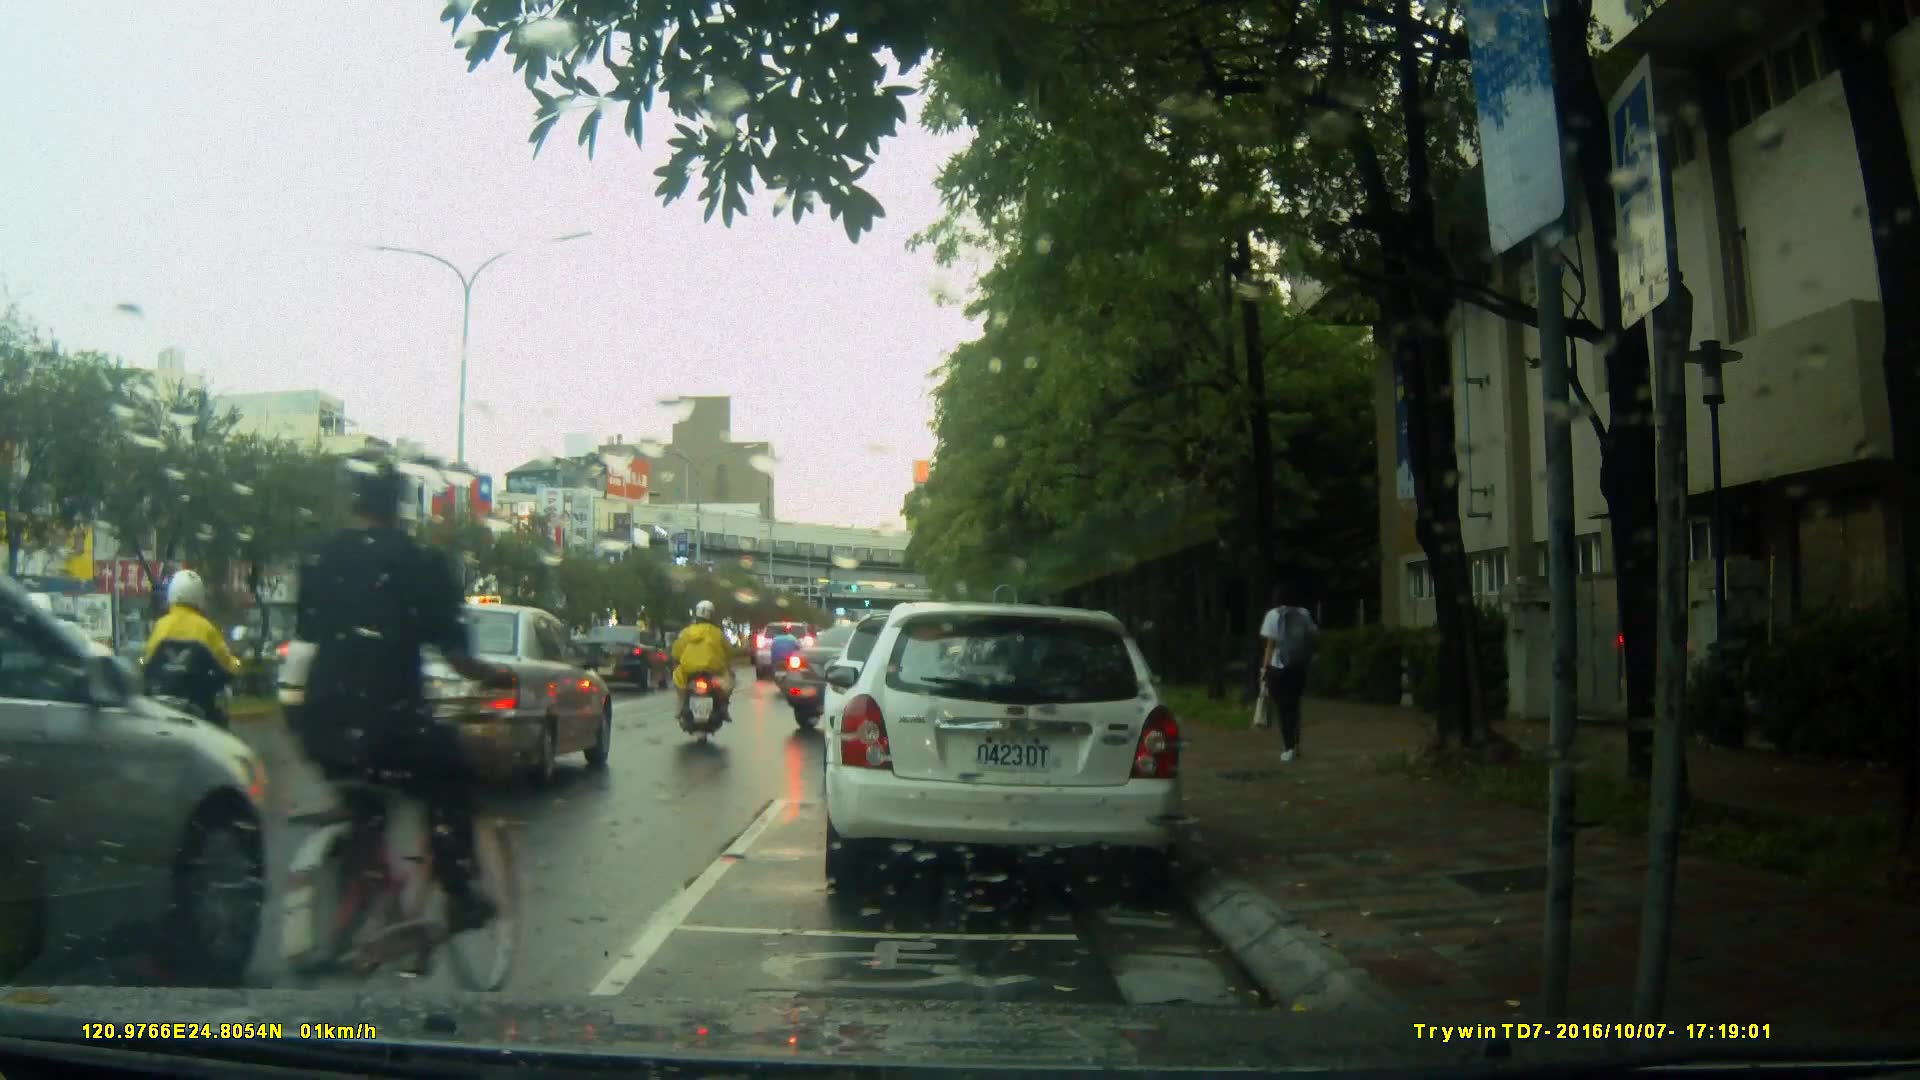pedestrian: (1261, 574, 1326, 766)
rider: (234, 444, 526, 1026), (143, 577, 263, 825), (672, 594, 737, 753), (666, 612, 704, 705), (773, 620, 801, 703)
vehicle: (1, 544, 311, 988), (820, 602, 1188, 898), (334, 601, 624, 785), (274, 594, 482, 732), (776, 621, 999, 734), (572, 624, 676, 693)
